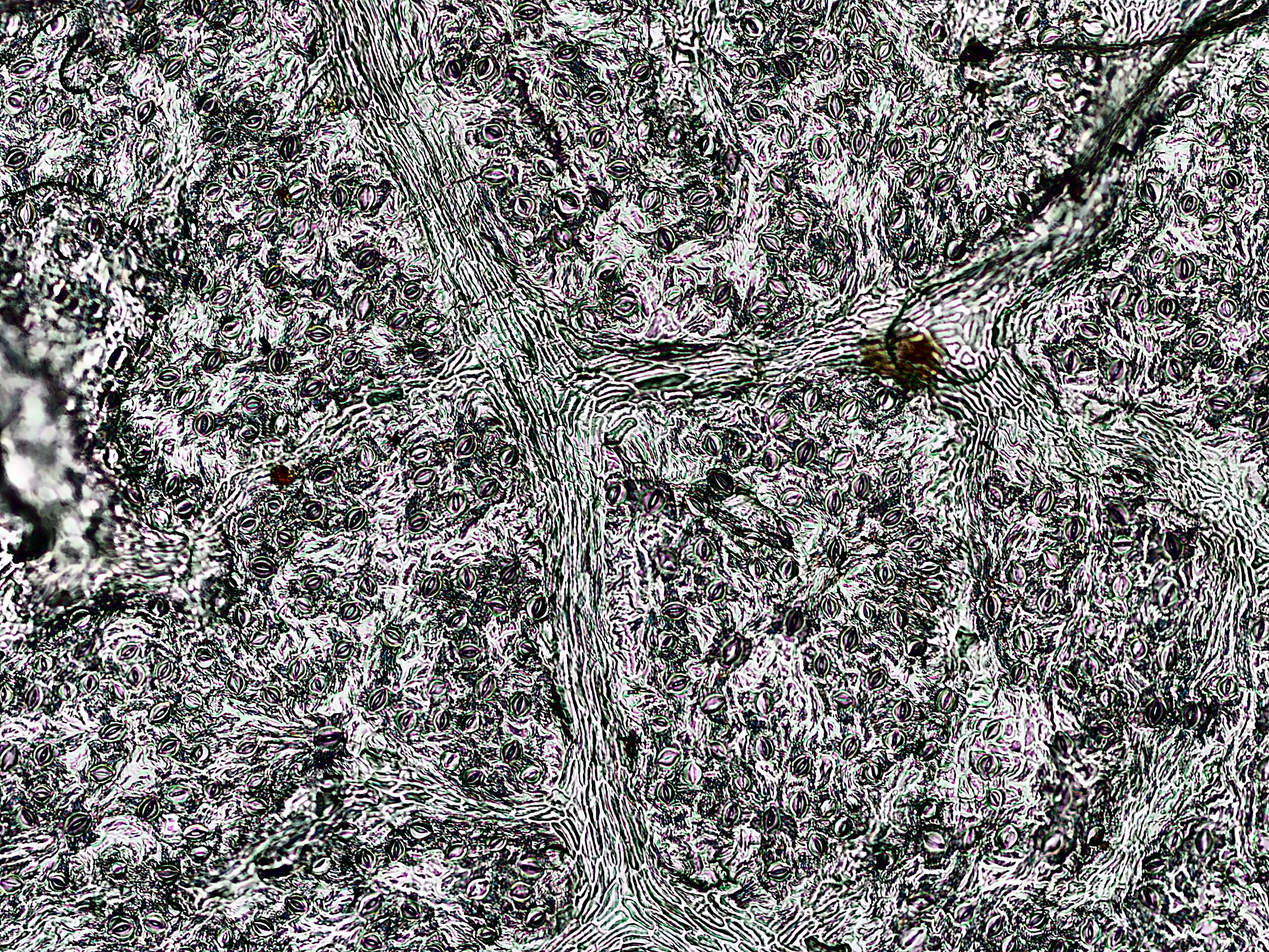stomata: (7, 56, 39, 81), (1173, 91, 1200, 120), (555, 188, 582, 215), (924, 16, 948, 46), (387, 306, 413, 333), (2, 147, 31, 171), (709, 468, 733, 496), (654, 224, 676, 254), (31, 91, 54, 119), (173, 384, 196, 412), (936, 688, 960, 714), (1078, 17, 1107, 38), (793, 440, 814, 469), (248, 556, 277, 577), (138, 138, 161, 164), (192, 411, 215, 437), (140, 27, 162, 54), (203, 125, 230, 147), (16, 200, 38, 227), (774, 55, 796, 82), (1158, 581, 1180, 608), (640, 186, 661, 214), (711, 279, 732, 307), (785, 29, 813, 50), (1141, 177, 1162, 205), (314, 726, 342, 747), (1207, 120, 1225, 152), (64, 811, 88, 835), (162, 54, 185, 79), (196, 93, 221, 116), (2, 91, 25, 116), (57, 104, 79, 130), (268, 349, 290, 375), (791, 790, 810, 820), (720, 801, 741, 828), (826, 537, 846, 565), (1035, 488, 1055, 516), (226, 5, 249, 29), (1176, 256, 1199, 280), (593, 262, 618, 284), (808, 135, 829, 161), (1018, 5, 1039, 31), (765, 278, 791, 299), (302, 500, 328, 521), (306, 322, 333, 342), (984, 119, 1011, 139), (871, 391, 898, 411), (140, 912, 168, 931), (586, 126, 609, 149), (768, 409, 791, 432), (996, 825, 1019, 848), (828, 90, 844, 123), (923, 827, 945, 851), (708, 211, 729, 236), (1003, 186, 1024, 211), (125, 480, 143, 509), (355, 442, 375, 468), (702, 433, 722, 459), (722, 637, 742, 663), (357, 184, 376, 211), (234, 602, 253, 629), (1010, 660, 1029, 687), (280, 133, 297, 163), (201, 181, 224, 203), (228, 159, 251, 181), (746, 100, 768, 123), (741, 14, 764, 36), (884, 136, 906, 159), (475, 478, 498, 500), (138, 797, 160, 820), (979, 755, 1001, 778), (135, 100, 156, 124), (454, 434, 475, 458), (1105, 501, 1126, 525), (1147, 698, 1165, 726), (987, 916, 1008, 940), (241, 110, 266, 130), (590, 186, 610, 211), (310, 464, 336, 483), (850, 68, 869, 94), (1043, 69, 1069, 88), (162, 470, 180, 497), (480, 168, 507, 186), (931, 172, 953, 194), (552, 225, 573, 248), (956, 900, 977, 923), (299, 377, 323, 397), (339, 347, 363, 367), (443, 60, 463, 84), (526, 595, 546, 619), (778, 516, 802, 536), (765, 862, 793, 879), (786, 608, 803, 636), (270, 412, 289, 437), (606, 160, 631, 179), (756, 690, 775, 715), (982, 593, 1001, 618), (1025, 166, 1041, 195), (289, 215, 310, 237), (473, 57, 495, 78), (553, 79, 574, 101), (872, 39, 894, 60), (1022, 92, 1044, 113), (839, 403, 861, 424), (465, 878, 487, 899), (833, 449, 854, 471), (534, 158, 557, 178), (702, 692, 725, 712), (126, 205, 143, 232), (610, 298, 637, 315), (826, 489, 843, 516), (88, 760, 112, 779), (420, 575, 439, 599), (476, 673, 495, 697), (748, 558, 767, 582), (819, 43, 837, 68), (499, 562, 517, 587), (793, 752, 809, 780), (514, 4, 540, 21), (513, 196, 534, 217), (904, 166, 925, 187), (356, 296, 376, 318), (499, 446, 519, 468), (741, 59, 761, 81), (946, 241, 968, 261), (69, 609, 91, 629), (285, 893, 307, 913), (685, 497, 707, 517), (855, 599, 875, 621), (665, 602, 688, 621), (687, 766, 706, 789), (842, 627, 861, 650), (1060, 672, 1079, 695), (1183, 701, 1202, 724), (87, 167, 105, 191), (687, 188, 711, 206), (360, 932, 384, 950), (780, 556, 798, 580), (1009, 562, 1027, 586), (759, 233, 784, 250), (831, 227, 848, 252), (803, 388, 820, 413), (287, 181, 308, 201), (357, 248, 377, 269), (203, 351, 224, 371), (850, 7, 865, 35), (813, 653, 833, 674), (866, 669, 887, 689), (893, 701, 913, 722), (1162, 643, 1176, 673), (549, 121, 568, 143), (447, 493, 466, 515), (1165, 536, 1184, 558), (778, 123, 796, 146), (1038, 588, 1056, 611), (1014, 626, 1032, 649), (100, 720, 124, 737), (762, 806, 779, 830), (26, 684, 41, 711), (242, 395, 262, 415), (630, 61, 650, 81), (788, 207, 808, 227), (176, 499, 196, 519), (460, 566, 476, 591), (665, 675, 690, 691), (197, 47, 218, 66), (276, 293, 295, 314), (896, 80, 915, 101), (929, 135, 950, 154), (662, 287, 683, 306), (119, 643, 140, 662), (159, 736, 180, 755), (464, 767, 485, 786), (875, 563, 894, 584), (841, 735, 860, 756), (1202, 216, 1223, 235), (220, 316, 238, 338), (585, 86, 607, 104), (502, 740, 520, 762), (744, 531, 766, 549), (414, 469, 437, 486), (916, 743, 939, 760), (404, 515, 428, 531), (513, 691, 529, 715), (248, 920, 272, 936), (1055, 732, 1071, 756), (98, 122, 117, 142), (925, 105, 944, 125), (361, 894, 381, 913), (733, 441, 753, 460), (1164, 831, 1184, 850), (482, 122, 503, 140), (769, 173, 787, 194), (888, 208, 906, 229), (1181, 192, 1199, 213), (182, 691, 203, 709), (358, 577, 379, 595), (524, 908, 545, 926), (762, 450, 780, 471), (1042, 549, 1060, 570), (1112, 575, 1130, 596), (243, 799, 268, 814), (822, 595, 837, 620), (1041, 28, 1063, 45), (1063, 350, 1080, 372), (1108, 358, 1125, 380), (111, 920, 133, 937), (605, 480, 622, 502), (1165, 358, 1182, 380), (698, 133, 714, 156), (1113, 284, 1129, 307), (1240, 105, 1263, 121), (5, 746, 19, 772), (668, 125, 687, 144), (979, 149, 998, 168), (808, 836, 827, 855), (401, 281, 421, 299), (411, 444, 431, 462), (485, 597, 509, 612), (510, 883, 534, 898), (883, 509, 903, 527), (1114, 535, 1134, 553), (1122, 466, 1142, 484), (1080, 920, 1098, 940), (1135, 297, 1152, 318), (346, 507, 363, 528), (129, 442, 150, 459), (341, 603, 362, 620), (383, 628, 404, 645), (659, 748, 680, 765), (914, 592, 935, 609), (986, 721, 1003, 742), (1130, 640, 1147, 661), (1224, 259, 1241, 280), (635, 119, 651, 141), (903, 237, 919, 259), (229, 669, 245, 691), (838, 819, 854, 841), (905, 534, 927, 550), (778, 489, 803, 503), (854, 475, 868, 500), (813, 257, 828, 280), (264, 501, 287, 516), (85, 671, 100, 694), (409, 822, 432, 837), (239, 424, 257, 443), (1079, 320, 1098, 338), (240, 512, 258, 531), (369, 690, 387, 709), (211, 286, 231, 303), (303, 574, 323, 591), (196, 643, 213, 663), (334, 640, 351, 660), (356, 849, 373, 869), (646, 488, 663, 508), (1223, 172, 1243, 189), (408, 346, 432, 360), (708, 580, 724, 601), (757, 738, 773, 759), (833, 692, 854, 708), (555, 45, 577, 60), (217, 926, 232, 948), (696, 539, 711, 561), (986, 486, 1001, 508), (183, 825, 208, 838), (251, 630, 269, 648), (977, 203, 994, 222), (150, 703, 169, 720), (263, 686, 282, 703), (38, 742, 52, 765), (1068, 517, 1082, 540), (224, 232, 244, 248), (191, 743, 207, 763), (47, 874, 67, 890), (386, 840, 402, 860), (1209, 394, 1229, 410), (1160, 299, 1175, 320), (0, 876, 21, 891), (485, 836, 507, 850), (890, 608, 904, 630), (34, 654, 52, 671), (58, 682, 75, 700), (156, 662, 174, 679), (449, 611, 466, 629), (401, 902, 419, 919), (820, 799, 837, 817), (1027, 913, 1045, 930), (424, 316, 440, 335), (480, 26, 499, 42), (441, 751, 460, 767), (314, 857, 330, 876), (652, 715, 671, 731), (889, 731, 905, 750), (315, 278, 330, 298), (517, 111, 542, 123), (398, 711, 413, 731), (155, 371, 178, 384), (126, 667, 142, 685), (20, 806, 36, 824), (735, 773, 751, 791), (1097, 720, 1115, 736), (262, 269, 281, 284), (31, 786, 50, 801), (157, 866, 176, 881), (659, 780, 674, 799), (293, 598, 313, 612), (235, 741, 255, 755), (445, 844, 465, 858), (1190, 333, 1210, 347), (854, 130, 865, 155), (256, 212, 273, 228), (516, 231, 533, 247), (1149, 245, 1165, 262), (1208, 354, 1224, 371), (521, 767, 539, 782), (206, 781, 221, 799), (333, 185, 347, 204), (276, 531, 295, 545), (168, 786, 187, 800), (1144, 856, 1163, 870), (1220, 298, 1234, 317), (290, 659, 303, 679), (518, 641, 538, 654), (107, 862, 123, 878), (434, 713, 448, 731), (477, 928, 498, 940), (883, 468, 901, 482), (246, 774, 265, 787), (429, 679, 445, 694), (988, 790, 1001, 808), (460, 644, 479, 656), (310, 678, 326, 692), (657, 638, 677, 649), (462, 714, 477, 728), (920, 561, 937, 573), (1223, 678, 1236, 693), (866, 762, 878, 778), (257, 174, 272, 185)
